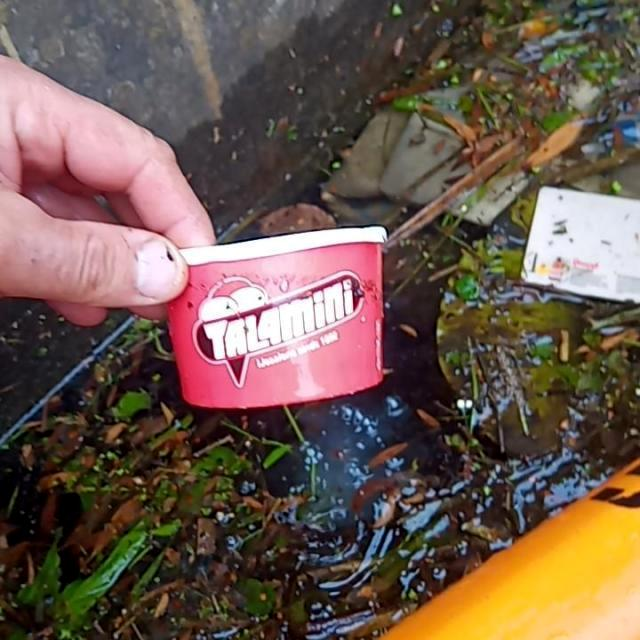Paper: (159, 222, 389, 412)
